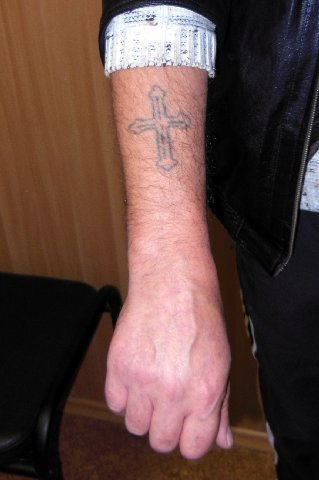tatu9_krest: (132, 84, 190, 173)
